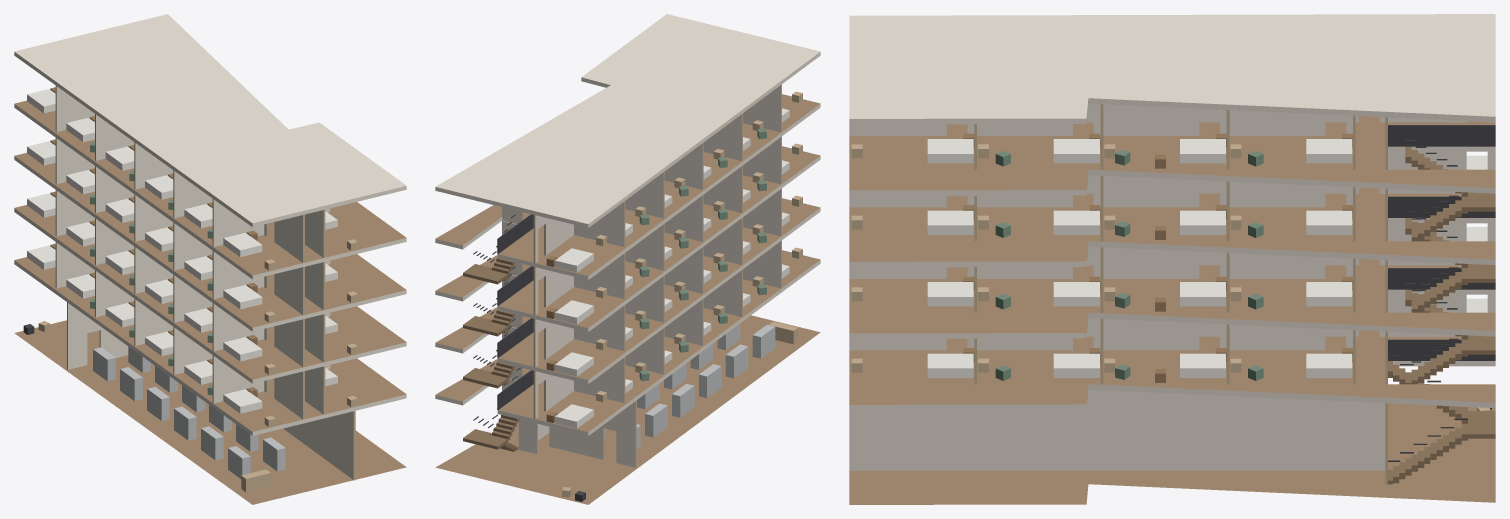
File: interior.glb
3 views of the same model, side by side, from view 1: azimuth 30°, elevation 25°; view 2: azimuth 150°, elevation 25°; view 3: azimuth 270°, elevation 25° (orthographic). The views are drawn at different scales.
Parts seen in each view (by area): view 1: slabs, partitions, coarse-s0, coarse-s2, coarse-s3, coarse-s1, coarse-s4; view 2: slabs, partitions, stair, coarse-s0, coarse-s1, coarse-s2, coarse-s3, coarse-s4; view 3: slabs, partitions, stair, coarse-s2, coarse-s1, coarse-s3, coarse-s4.
Part boxes in pixels (bbox=[...]): slabs: bbox=[14, 14, 406, 504]; partitions: bbox=[55, 86, 355, 480]; coarse-s0: bbox=[23, 321, 285, 492]; coarse-s2: bbox=[27, 191, 357, 374]; coarse-s3: bbox=[27, 139, 357, 322]; coarse-s1: bbox=[27, 243, 357, 426]; coarse-s4: bbox=[27, 87, 357, 270]; slabs: bbox=[435, 14, 820, 504]; partitions: bbox=[502, 84, 781, 467]; stair: bbox=[463, 214, 533, 451]; coarse-s0: bbox=[562, 321, 798, 501]; coarse-s1: bbox=[546, 247, 802, 428]; coarse-s2: bbox=[546, 195, 802, 376]; coarse-s3: bbox=[546, 143, 802, 324]; coarse-s4: bbox=[546, 91, 802, 272]; slabs: bbox=[849, 14, 1495, 504]; partitions: bbox=[849, 103, 1495, 484]; stair: bbox=[1387, 125, 1495, 484]; coarse-s2: bbox=[851, 227, 1487, 311]; coarse-s1: bbox=[851, 298, 1487, 382]; coarse-s3: bbox=[851, 155, 1487, 239]; coarse-s4: bbox=[851, 133, 1352, 168].
Bounding box in the file's own units: 10.75 × 18.45 × 27.96.
